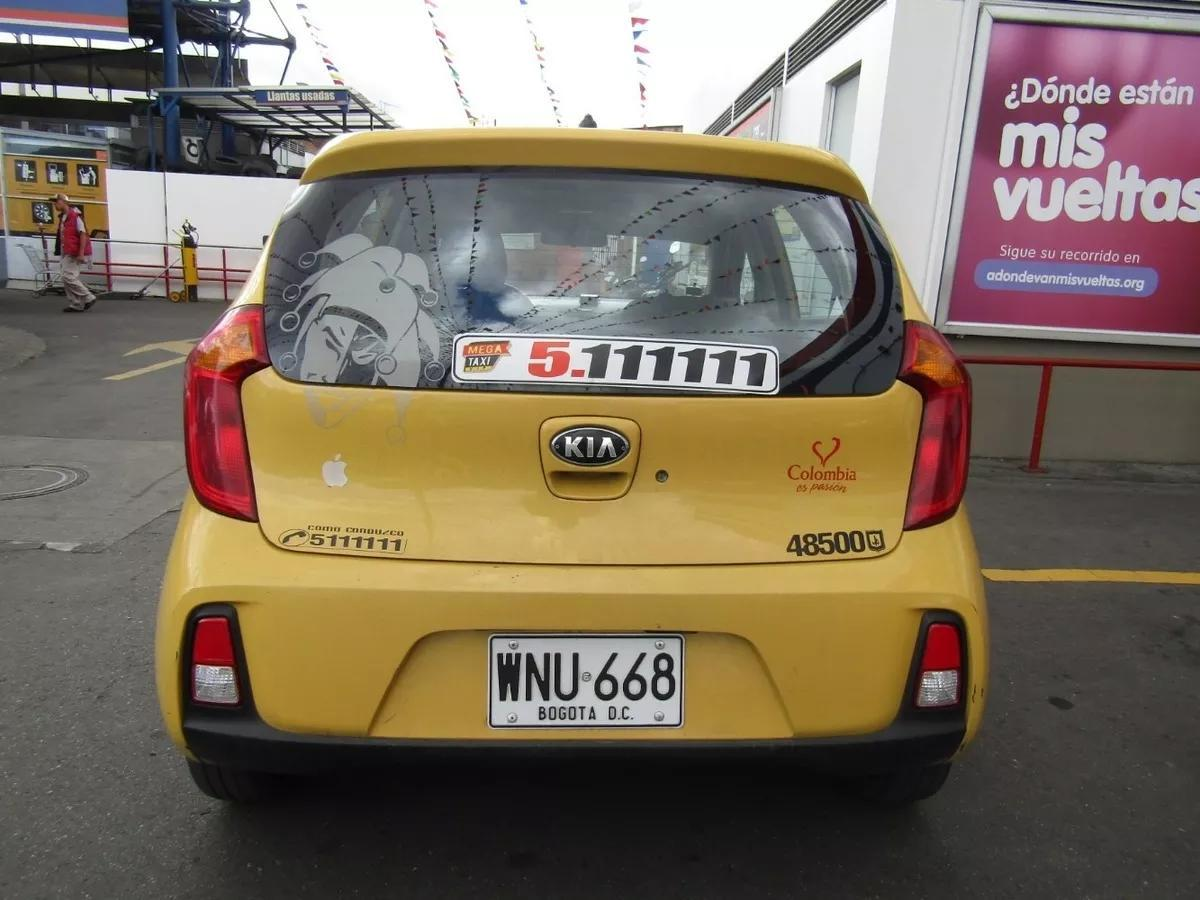taxi: (191, 79, 973, 827)
